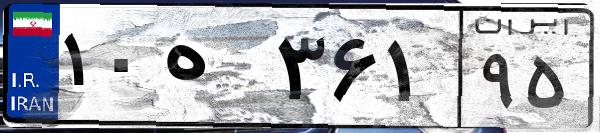0: (110, 28, 158, 98)
1: (385, 28, 445, 110), (57, 26, 110, 100)
3: (270, 28, 330, 110)
5: (525, 38, 570, 115)
6: (330, 28, 385, 110)
9: (475, 38, 525, 113)
ه: (158, 20, 270, 120)
